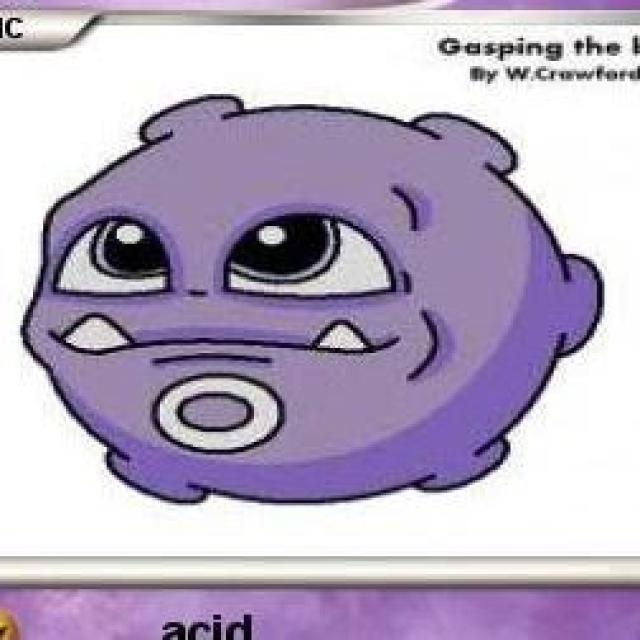Koffing: (23, 95, 613, 524)
